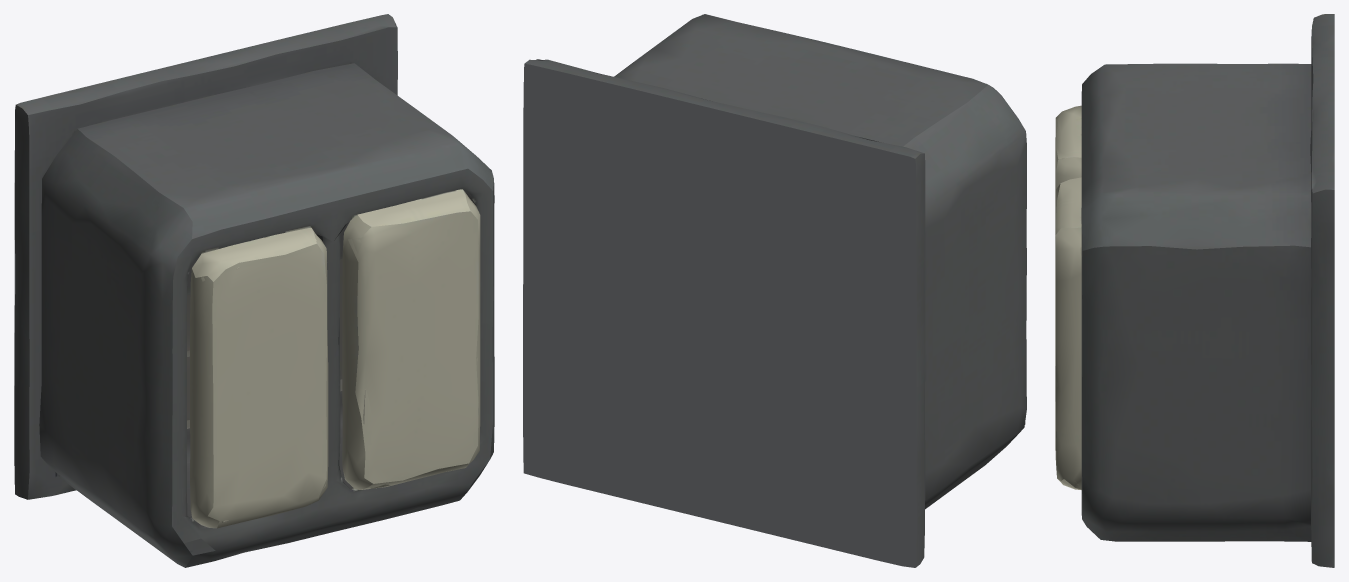
The model's file is small_battery_bank_mk1.glb.
The picture shows the model from 3 angles, left to right: view 1: azimuth 30°, elevation 25°; view 2: azimuth 150°, elevation 25°; view 3: azimuth 270°, elevation 25°; orthographic projection. The views are drawn at different scales.
Parts seen in each view (by area): view 1: part; view 2: part; view 3: part.
Boxes of the visible parts, left/top/right/bottom form: part: left=14, top=14, right=494, bottom=567; part: left=523, top=14, right=1026, bottom=567; part: left=1055, top=14, right=1334, bottom=567.
Bounding box in the file's own units: 0.6 × 0.6 × 0.4.
2 materials, 1 textured.
